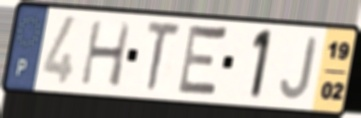1: (249, 28, 276, 104)
4: (39, 13, 78, 90)
E: (174, 21, 231, 102)
H: (78, 18, 134, 89)
J: (278, 35, 320, 102)
T: (144, 19, 183, 95)
